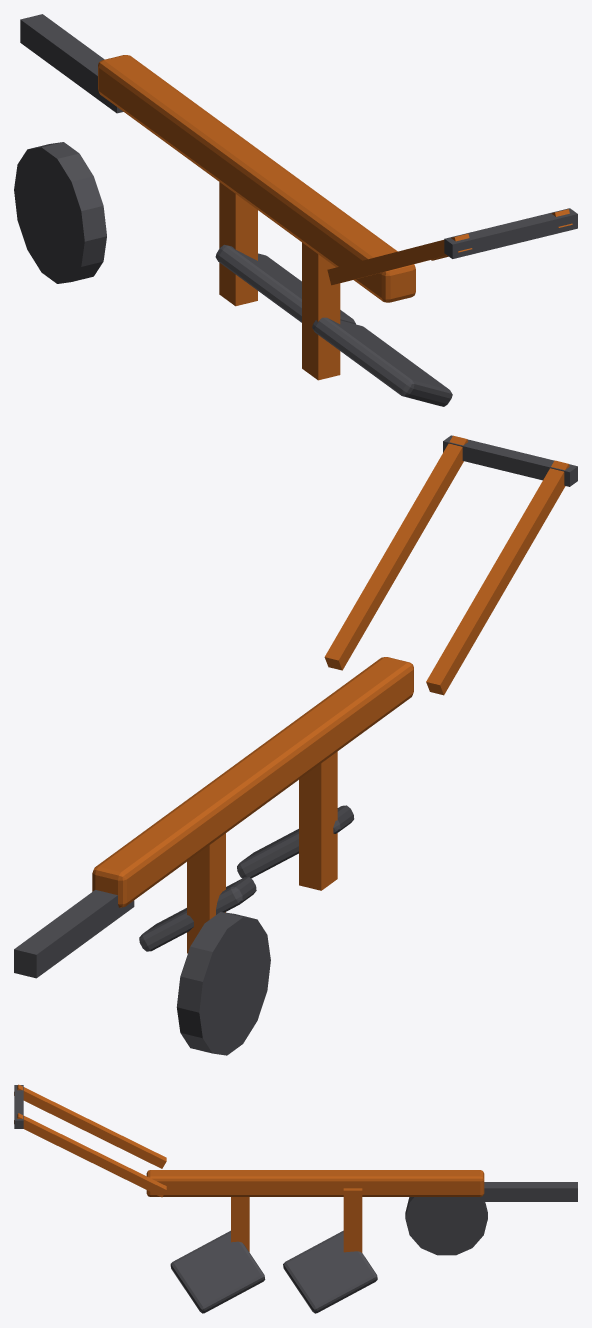
File: pulluk.glb
The picture shows the model from 3 angles, top to bottom: view 1: azimuth 30°, elevation 25°; view 2: azimuth 150°, elevation 25°; view 3: azimuth 270°, elevation 25°; orthographic projection. The views are drawn at different scales.
Parts seen in each view (by area): view 1: Ceki; view 2: Ceki; view 3: Ceki.
Part boxes in pixels (bbox=[...]): Ceki: bbox=[14, 14, 577, 406]; Ceki: bbox=[14, 435, 577, 1055]; Ceki: bbox=[14, 1084, 577, 1313].
Size of the model in its own units: 0.2306 by 0.366 by 1.
